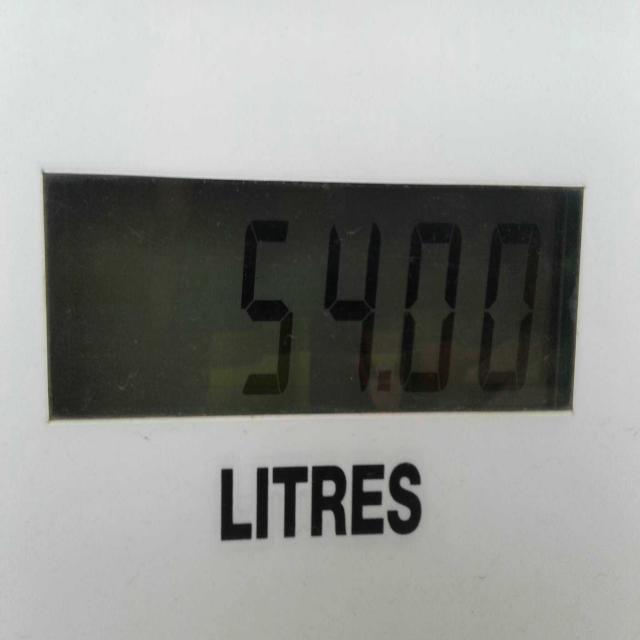.: (378, 367, 395, 396)
0: (401, 223, 464, 397), (474, 226, 536, 392)
4: (322, 226, 382, 394)
5: (238, 223, 296, 395)
screen: (42, 172, 582, 421)
